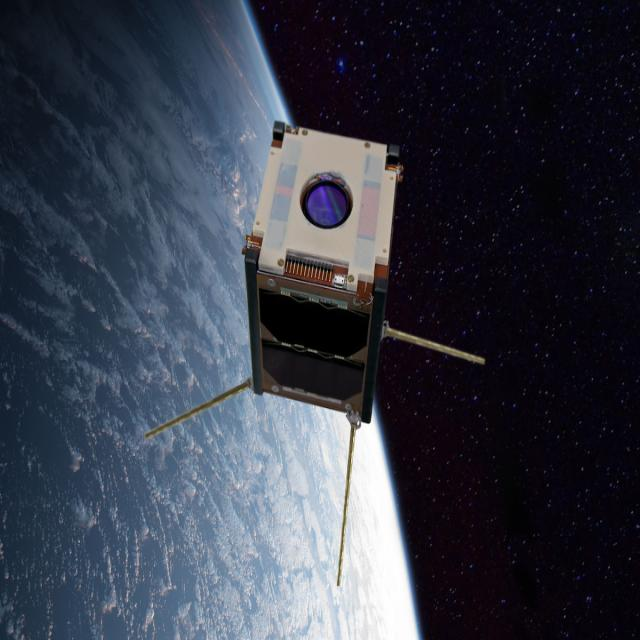satellite: (202, 119, 478, 502)
